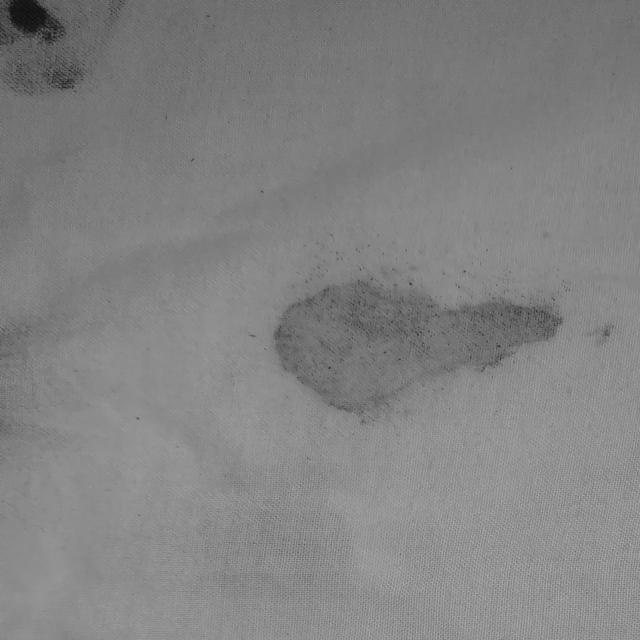Hole: (230, 226, 632, 435)
